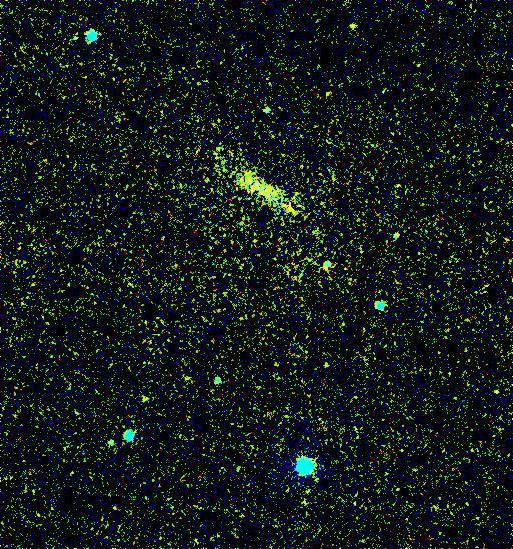star: (339, 10, 369, 40)
